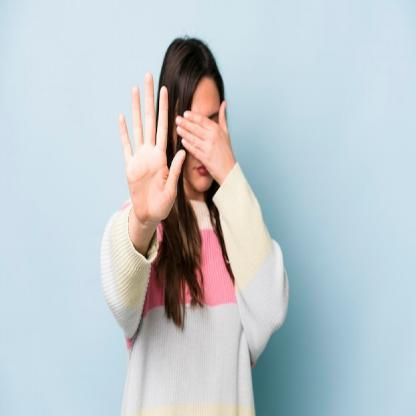stop: (115, 68, 188, 228)
